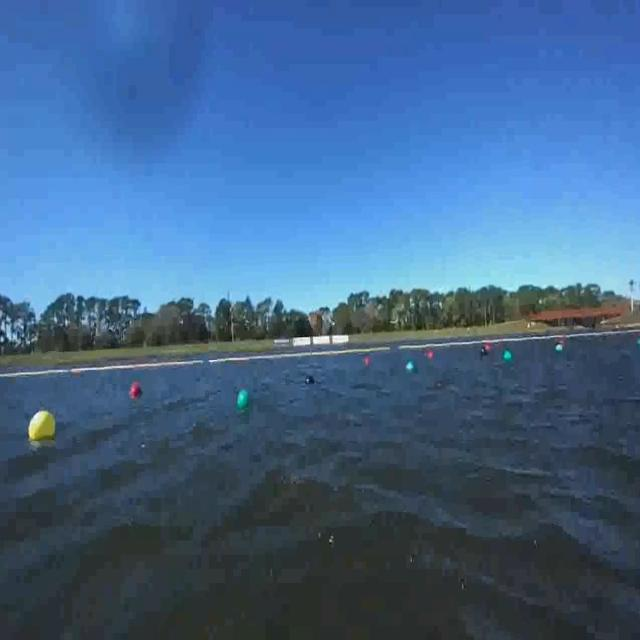green-buoy: (236, 387, 248, 407), (502, 350, 512, 362), (556, 345, 564, 355)
red-buoy: (133, 380, 143, 398)
yellow-buoy: (29, 410, 56, 441)
